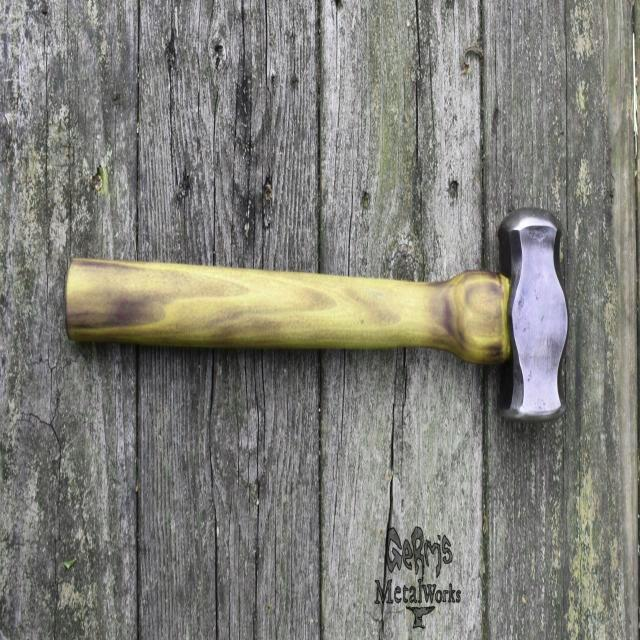hammer: (62, 198, 575, 432)
